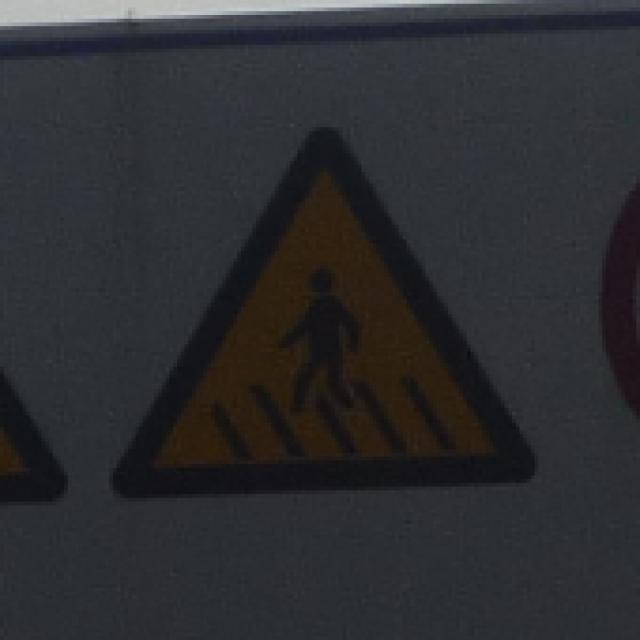Crossing: (100, 116, 548, 506)
